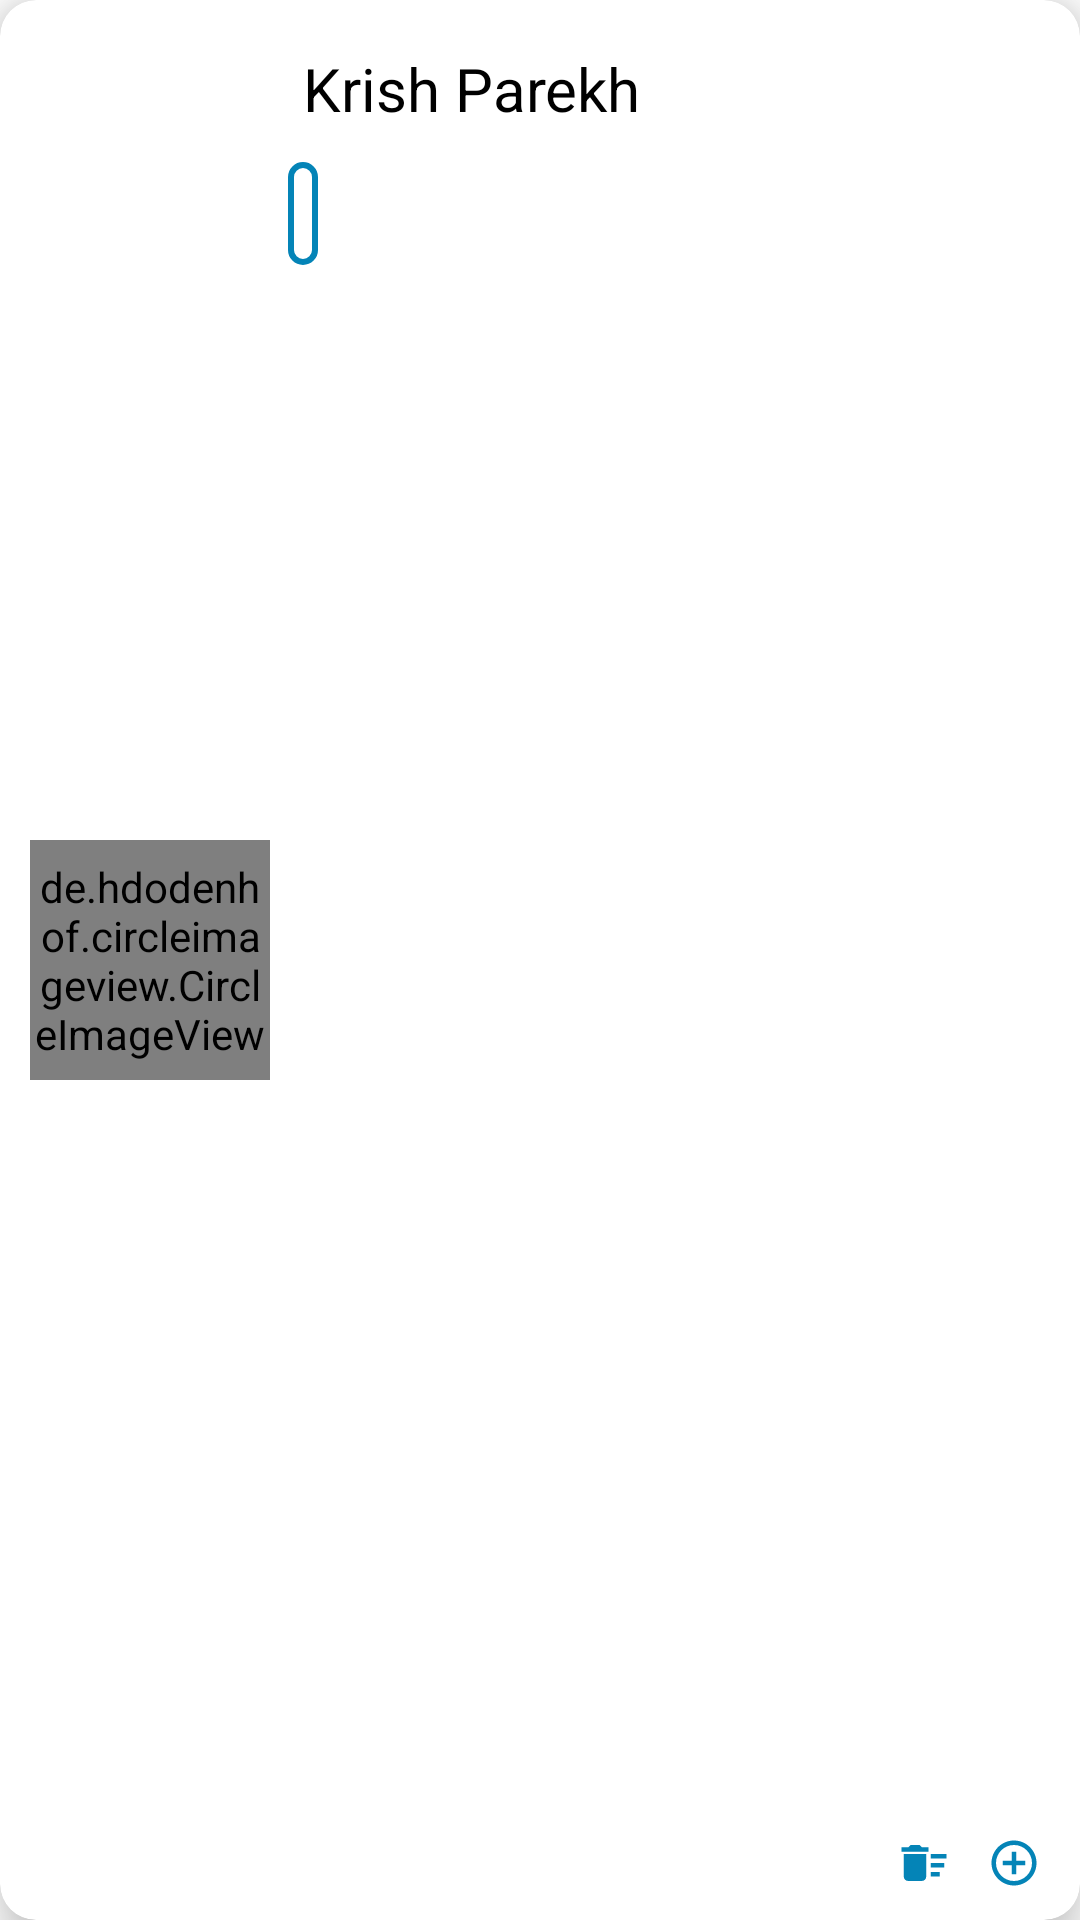

Locate icon controls on the screen. Image size 1080*1920, boxes as Rect(x1, y1, x2, y2).
add circle: Rect(991, 1840, 1037, 1886)
delete: Rect(901, 1845, 947, 1881)
